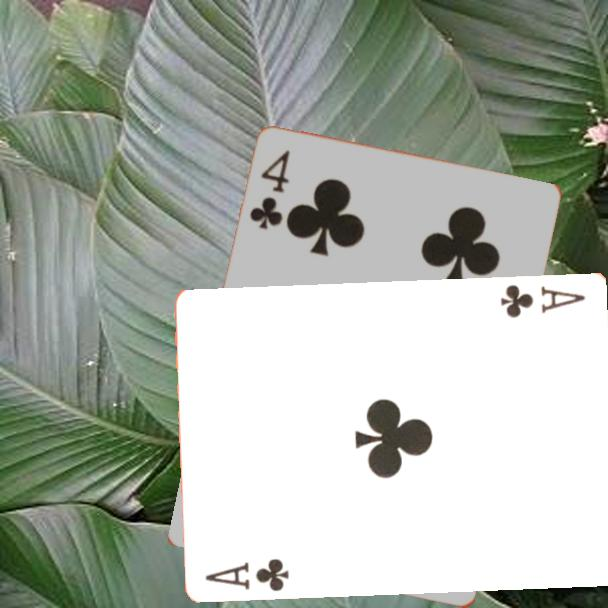c01: (498, 280, 589, 320), (202, 554, 293, 594)
c04: (246, 147, 294, 233)
